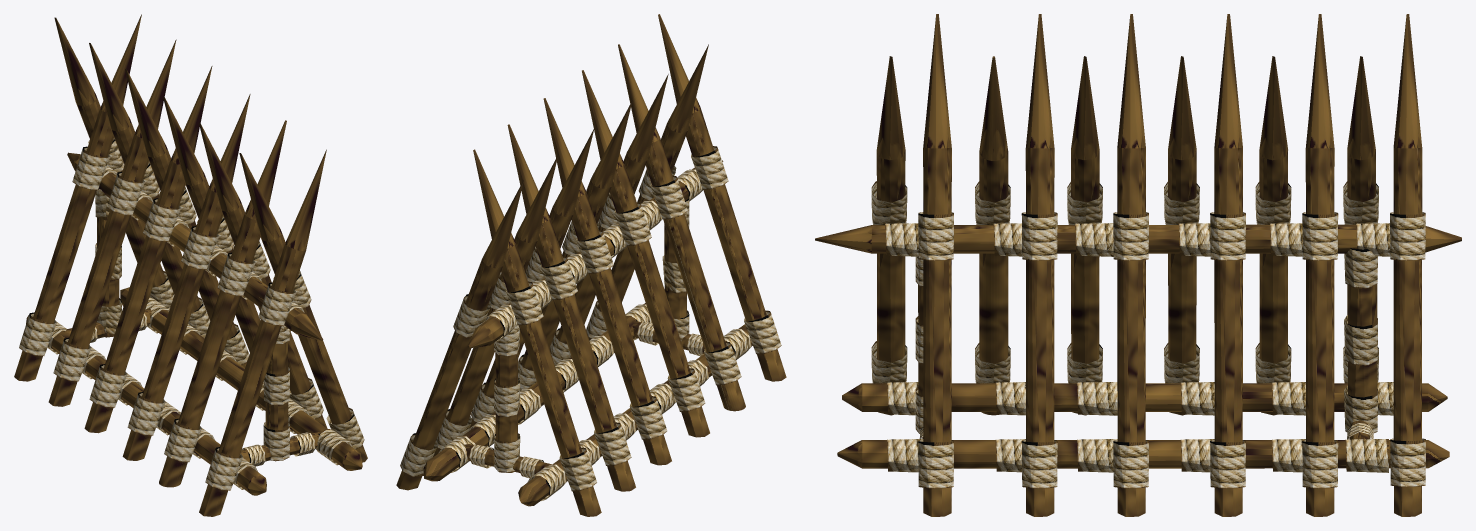
File: BARRERA.fbx
The picture shows the model from 3 angles, left to right: view 1: azimuth 30°, elevation 25°; view 2: azimuth 150°, elevation 25°; view 3: azimuth 270°, elevation 25°; orthographic projection. The views are drawn at different scales.
Parts seen in each view (by area): view 1: BARRERA; view 2: BARRERA; view 3: BARRERA.
Boxes of the visible parts, box(x1,y1,x2,y2) form: BARRERA: box(14, 14, 367, 516); BARRERA: box(396, 14, 786, 516); BARRERA: box(815, 14, 1461, 516).
Bounding box in the file's own units: 1151 × 2009 × 2769.
